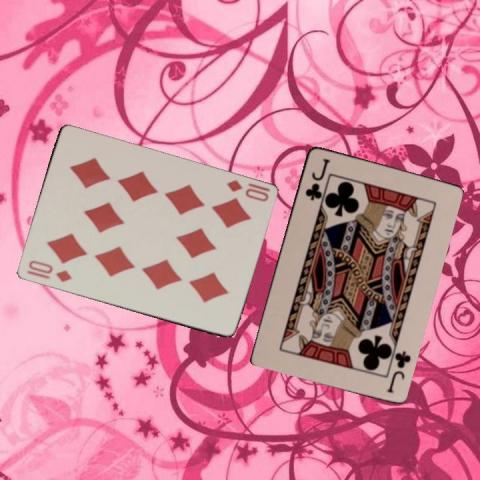10d: (25, 257, 73, 284), (223, 177, 271, 203)
Jc: (383, 347, 412, 394), (302, 155, 330, 201)
